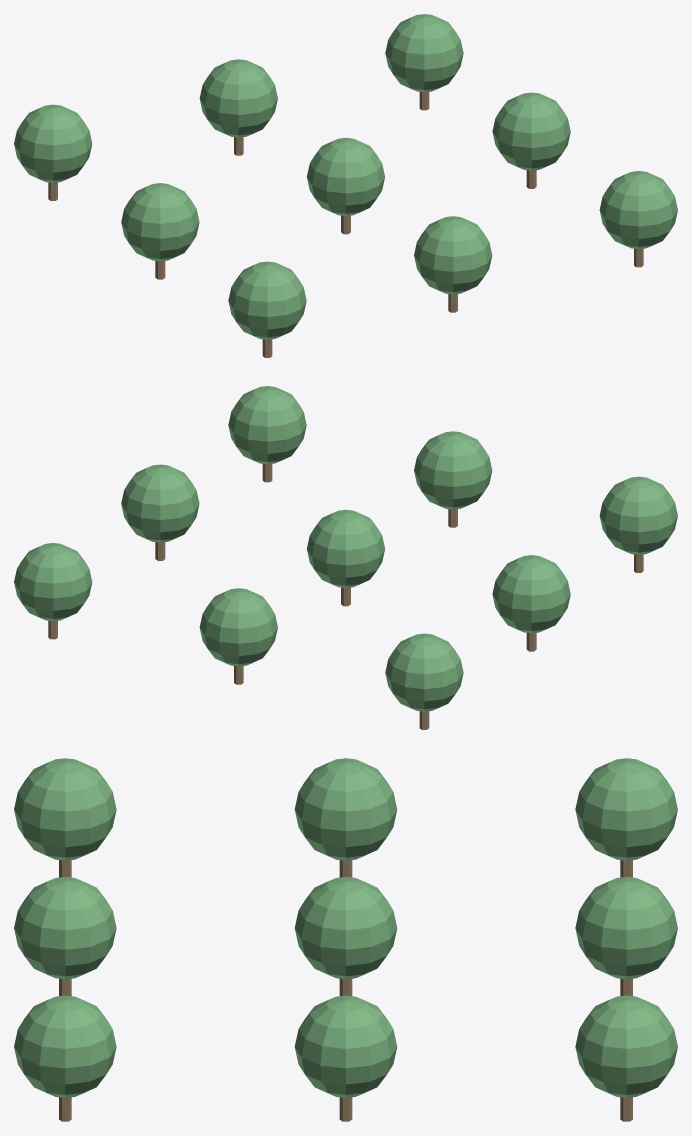
File: urban_forest.glb
The picture shows the model from 3 angles, top to bottom: view 1: azimuth 30°, elevation 25°; view 2: azimuth 150°, elevation 25°; view 3: azimuth 270°, elevation 25°; orthographic projection. The views are drawn at different scales.
Visible parts, largest first — view 1: Sphere.005, Sphere.008, Sphere.001, Sphere.003, Sphere.004, Sphere, Sphere.007, Sphere.002, Sphere.006; view 2: Sphere.002, Sphere.005, Sphere.007, Sphere.003, Sphere.004, Sphere.001, Sphere.006, Sphere, Sphere.008; view 3: Sphere.005, Sphere, Sphere.006, Sphere.001, Sphere.007, Sphere.002, Sphere.008, Sphere.004, Sphere.003.
Part boxes in pixels (x1=…): Sphere.005: x1=492, y1=92, x2=570, y2=170; Sphere.008: x1=385, y1=14, x2=463, y2=92; Sphere.001: x1=414, y1=216, x2=492, y2=294; Sphere.003: x1=121, y1=183, x2=199, y2=261; Sphere.004: x1=307, y1=137, x2=384, y2=215; Sphere: x1=228, y1=261, x2=306, y2=339; Sphere.007: x1=199, y1=59, x2=277, y2=137; Sphere.002: x1=599, y1=171, x2=677, y2=249; Sphere.006: x1=14, y1=104, x2=92, y2=182; Sphere.002: x1=228, y1=386, x2=306, y2=464; Sphere.005: x1=121, y1=464, x2=199, y2=542; Sphere.007: x1=199, y1=588, x2=277, y2=666; Sphere.003: x1=492, y1=555, x2=570, y2=633; Sphere.004: x1=307, y1=509, x2=384, y2=587; Sphere.001: x1=414, y1=431, x2=492, y2=509; Sphere.006: x1=385, y1=633, x2=463, y2=711; Sphere: x1=599, y1=476, x2=677, y2=554; Sphere.008: x1=14, y1=543, x2=92, y2=621; Sphere.005: x1=294, y1=995, x2=397, y2=1097; Sphere: x1=14, y1=758, x2=116, y2=860; Sphere.006: x1=575, y1=758, x2=677, y2=860; Sphere.001: x1=14, y1=877, x2=116, y2=979; Sphere.007: x1=575, y1=877, x2=677, y2=979; Sphere.002: x1=14, y1=995, x2=116, y2=1097; Sphere.008: x1=575, y1=995, x2=677, y2=1097; Sphere.004: x1=294, y1=877, x2=397, y2=979; Sphere.003: x1=294, y1=758, x2=397, y2=860.
Bounding box in the file's own units: 41.4 × 8.2 × 41.4.
